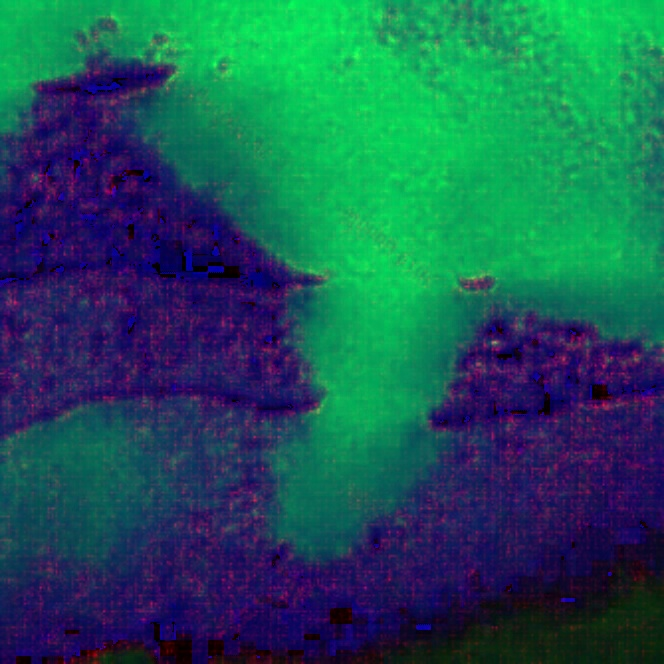rip_current: (236, 180, 524, 576)
